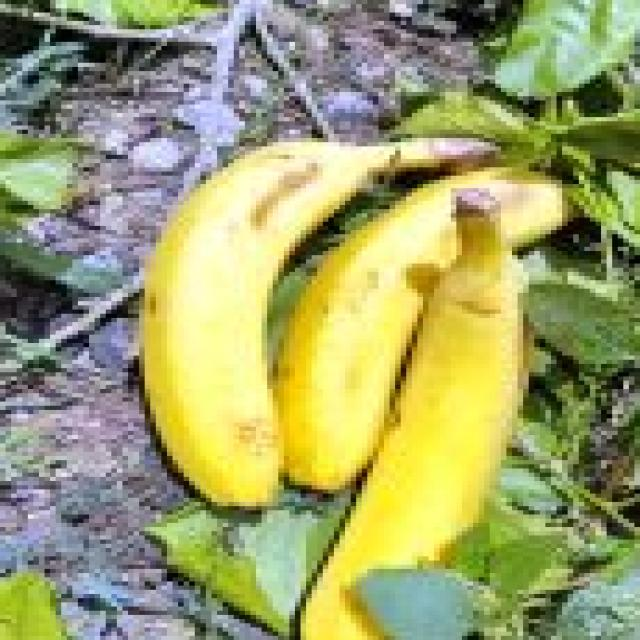Good_Banana-2-3 days: (142, 138, 568, 640)
